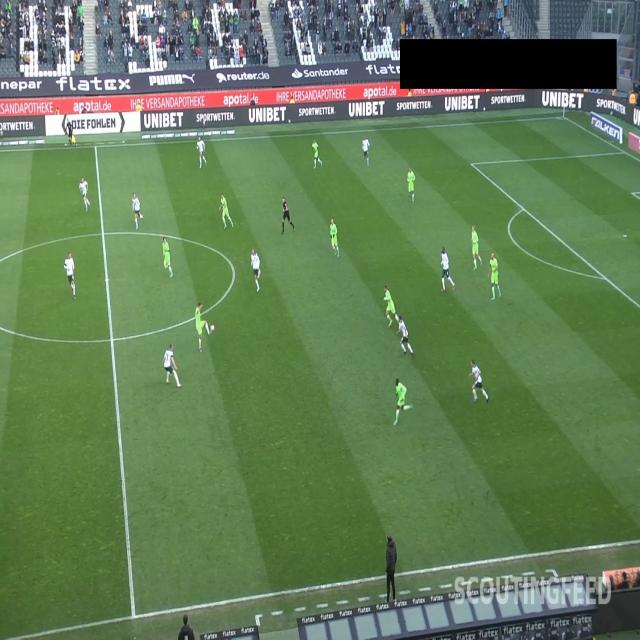ball: (210, 324, 215, 332)
